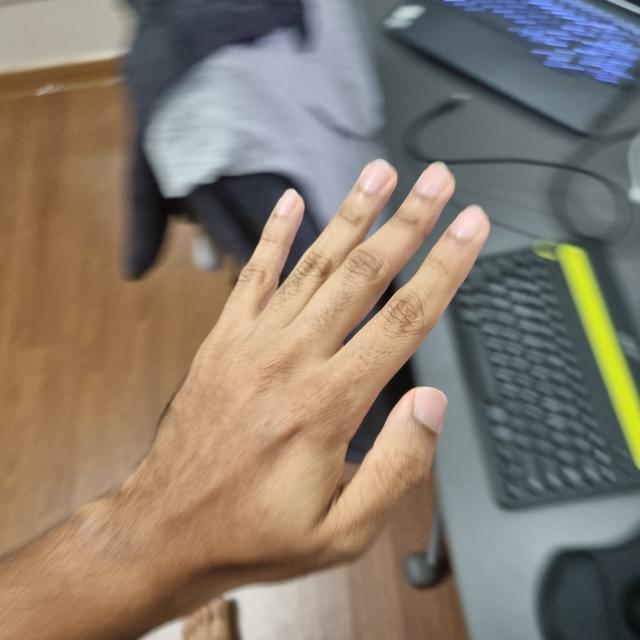Paper: (138, 162, 487, 572)
